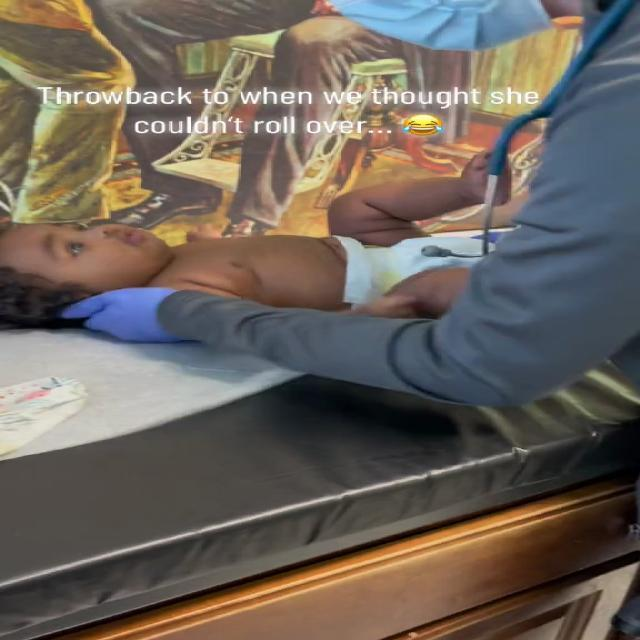baby: (0, 145, 520, 329)
